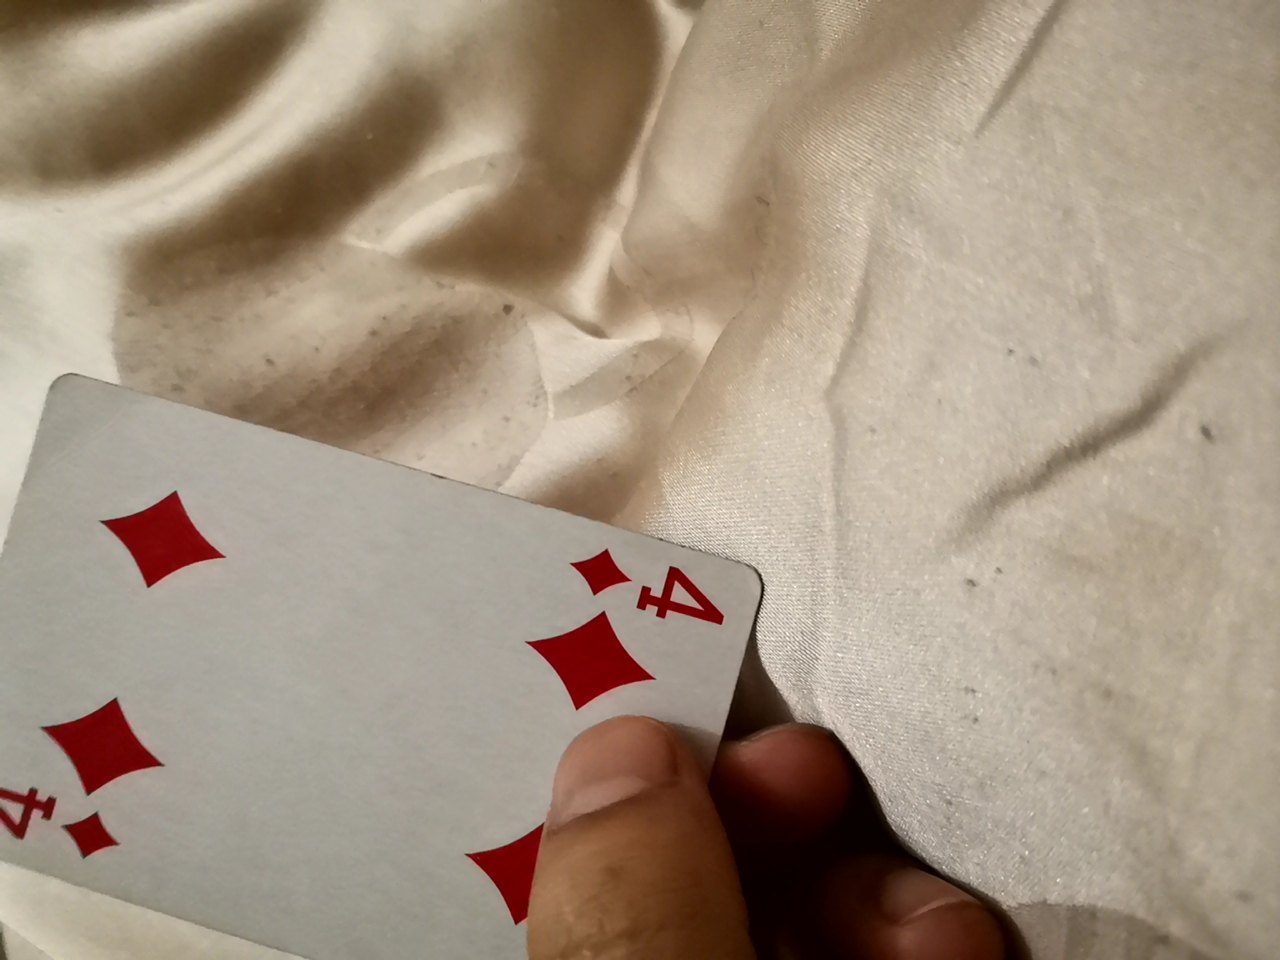fk 4: (10, 401, 759, 951)
